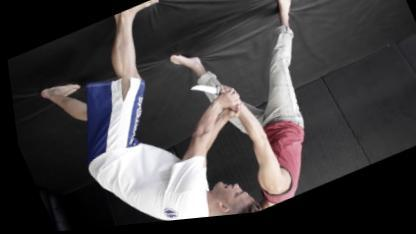knife: (183, 74, 236, 112)
